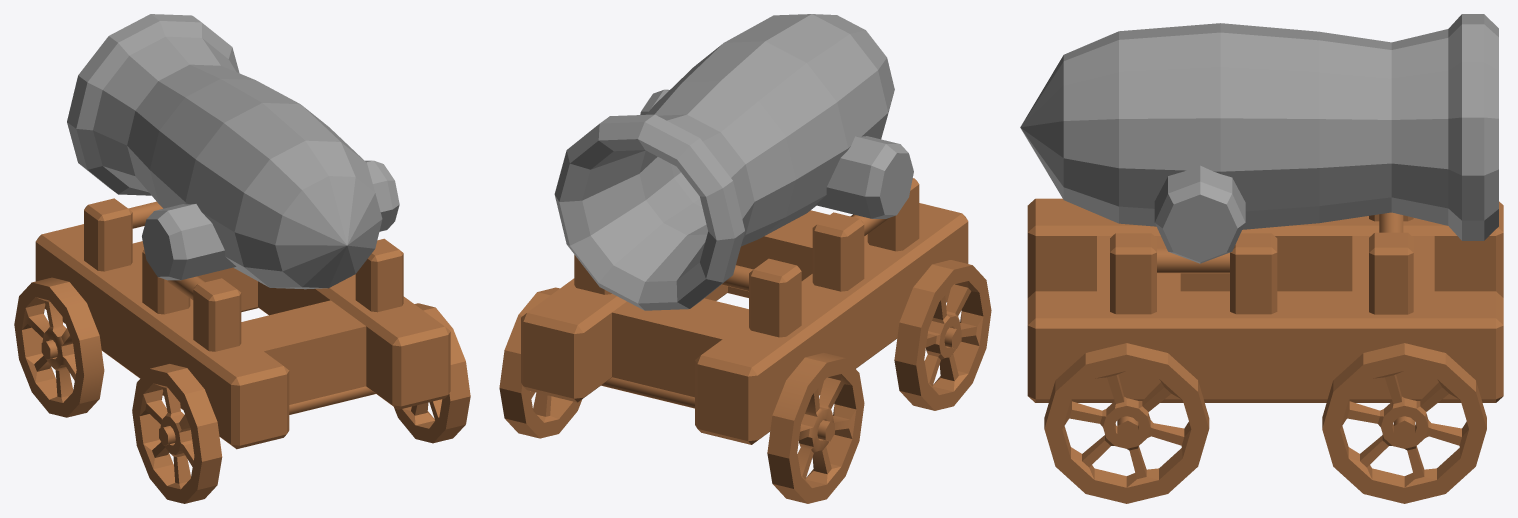
File: canon_1.fbx
3 views of the same model, side by side, from view 1: azimuth 30°, elevation 25°; view 2: azimuth 150°, elevation 25°; view 3: azimuth 270°, elevation 25° (orthographic). The views are drawn at different scales.
Parts seen in each view (by area): view 1: Main Tube, Body, Wheel2, Wheel1, Left Stand, Canon Left, Wheel4, Front Stand, Right Stand, Canon Right, Axel_Back; view 2: Main Tube, Body, Wheel1, Wheel2, Left Stand, Canon Left, Front Stand, Wheel3, Axel_Front; view 3: Main Tube, Body, Wheel3, Wheel4, Right Stand, Canon Right, Front Stand.
Boxes of the visible parts, left/top/right/bottom form: Main Tube: left=67, top=14, right=382, bottom=289; Body: left=35, top=224, right=450, bottom=449; Wheel2: left=14, top=277, right=104, bottom=417; Wheel1: left=132, top=364, right=222, bottom=503; Left Stand: left=142, top=250, right=241, bottom=351; Canon Left: left=142, top=204, right=236, bottom=280; Wheel4: left=394, top=303, right=470, bottom=443; Front Stand: left=84, top=198, right=162, bottom=271; Right Stand: left=355, top=238, right=403, bottom=312; Canon Right: left=365, top=160, right=399, bottom=231; Axel_Back: left=159, top=386, right=375, bottom=445; Main Tube: left=554, top=14, right=894, bottom=310; Body: left=521, top=203, right=968, bottom=444; Wheel1: left=894, top=260, right=991, bottom=410; Wheel2: left=767, top=353, right=864, bottom=503; Left Stand: left=812, top=178, right=919, bottom=291; Canon Left: left=815, top=136, right=913, bottom=218; Front Stand: left=574, top=255, right=801, bottom=337; Wheel3: left=499, top=287, right=582, bottom=438; Axel_Front: left=601, top=377, right=834, bottom=441; Main Tube: left=1020, top=14, right=1498, bottom=240; Body: left=1027, top=198, right=1503, bottom=402; Wheel3: left=1322, top=343, right=1486, bottom=503; Wheel4: left=1044, top=343, right=1209, bottom=503; Right Stand: left=1110, top=233, right=1277, bottom=314; Canon Right: left=1154, top=165, right=1245, bottom=263; Front Stand: left=1369, top=212, right=1413, bottom=314.
Bounding box in the file's own units: 263 × 311 × 338.
